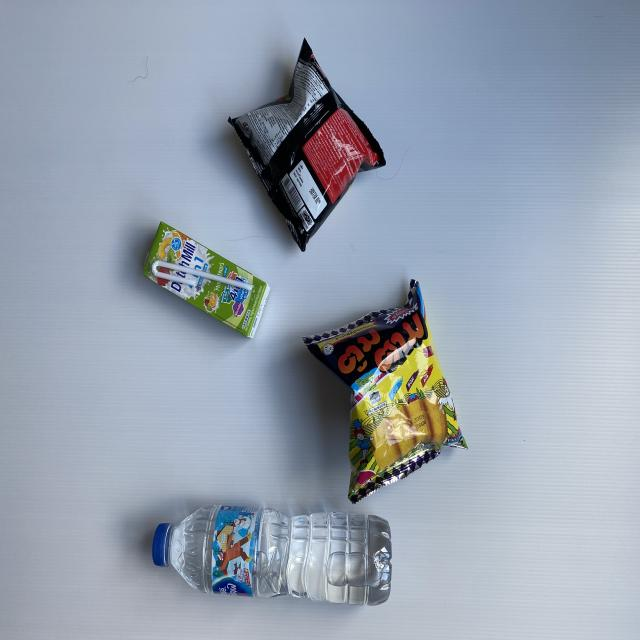milk: (143, 221, 270, 337)
snack: (303, 279, 469, 505), (227, 38, 386, 252)
water: (152, 504, 392, 606)
